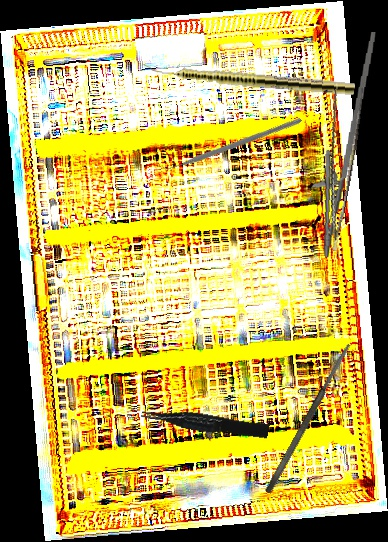Chopper: (156, 66, 302, 218)
Handpiece: (140, 61, 356, 97)
Needle Holder: (304, 27, 378, 260)
Spatula Surgical: (263, 342, 354, 495)
Tissue Forceps: (305, 81, 369, 252), (140, 399, 270, 445)
